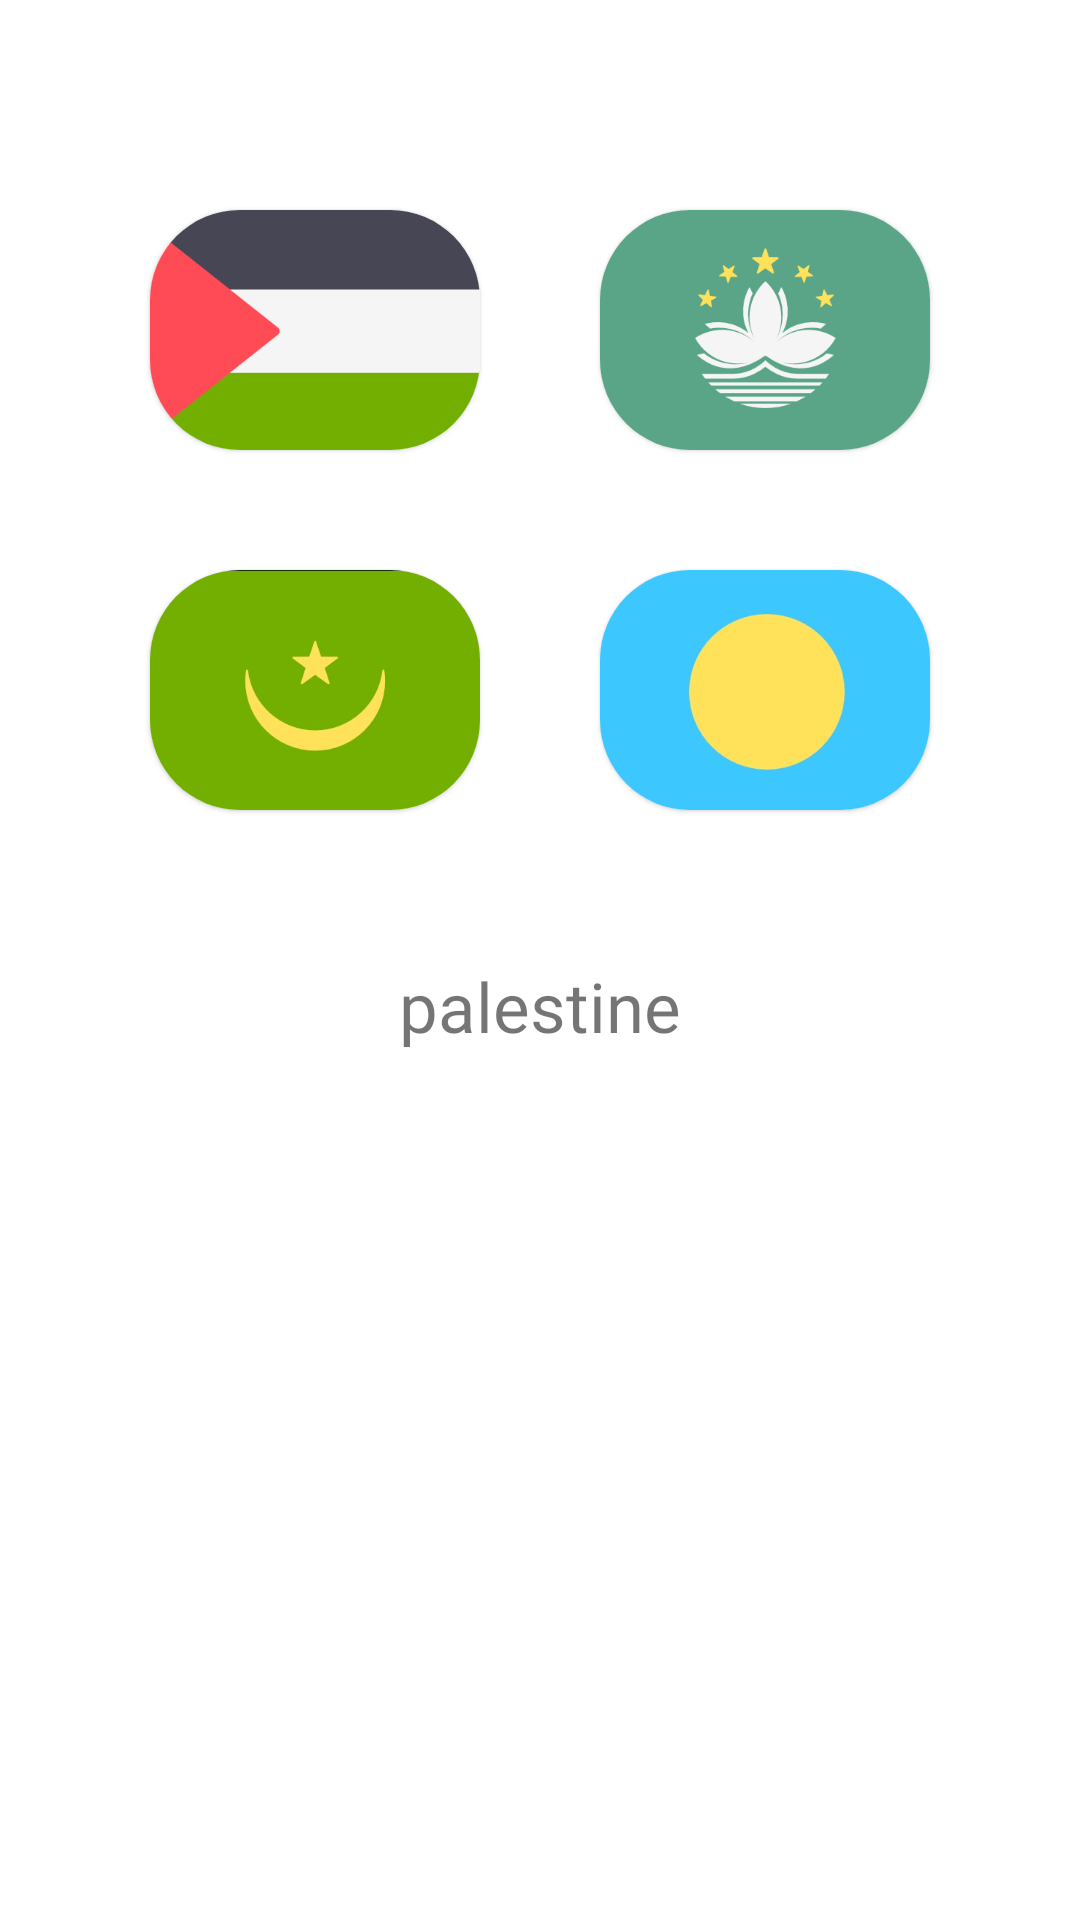

Screen size 1080 × 1920. Icon name, then its box in pixels as {"x1": x1, "y1": y1, "x2": x2, "y2": y2}:
macao: {"x1": 600, "y1": 210, "x2": 930, "y2": 450}
mauritania: {"x1": 150, "y1": 570, "x2": 480, "y2": 810}
palau: {"x1": 600, "y1": 570, "x2": 930, "y2": 810}
palestine: {"x1": 150, "y1": 210, "x2": 480, "y2": 450}
